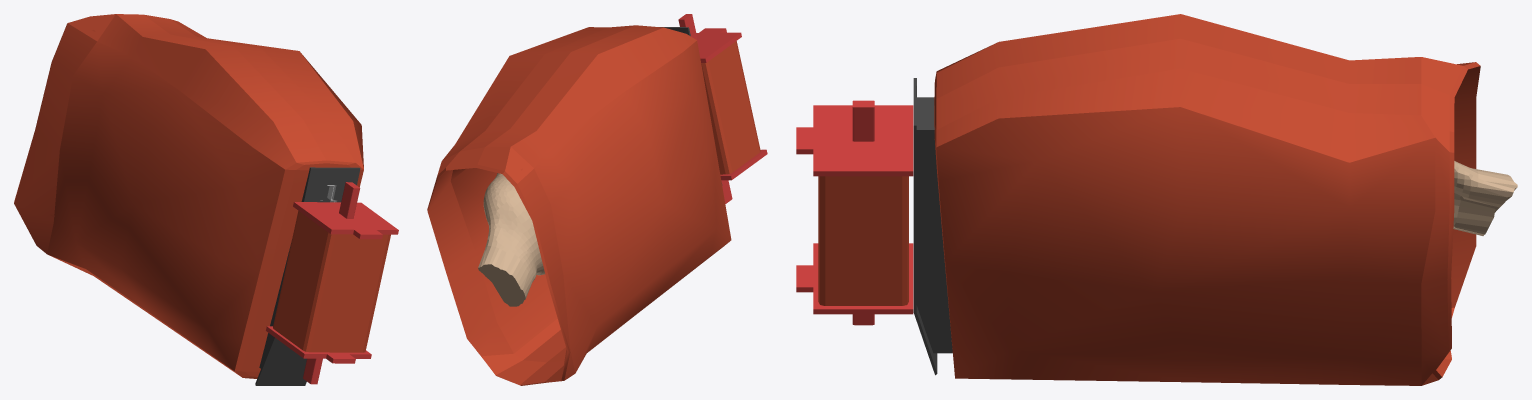
File: hand-with-mespatroon-trekker.fbx
3 renders of one model, left to right at view 1: azimuth 30°, elevation 25°; view 2: azimuth 150°, elevation 25°; view 3: azimuth 270°, elevation 25°, orthographic. The views are drawn at different scales.
Visible parts, largest first — view 1: Cube_Cube.002, 07-fuse-block-R.001_Plane.007; view 2: Cube_Cube.002, 07-fuse-block-R.001_Plane.007, Object03.007; view 3: Cube_Cube.002, 07-fuse-block-R.001_Plane.007, Object03.007.
Boxes of the visible parts, x1=… form: Cube_Cube.002: x1=14, y1=14, x2=363, y2=385; 07-fuse-block-R.001_Plane.007: x1=266, y1=182, x2=398, y2=384; Cube_Cube.002: x1=427, y1=25, x2=731, y2=385; 07-fuse-block-R.001_Plane.007: x1=678, y1=14, x2=767, y2=203; Object03.007: x1=478, y1=173, x2=544, y2=306; Cube_Cube.002: x1=913, y1=14, x2=1480, y2=385; 07-fuse-block-R.001_Plane.007: x1=796, y1=100, x2=913, y2=325; Object03.007: x1=1453, y1=161, x2=1517, y2=235.
Bounding box in the file's own units: 468 × 653 × 1165.
